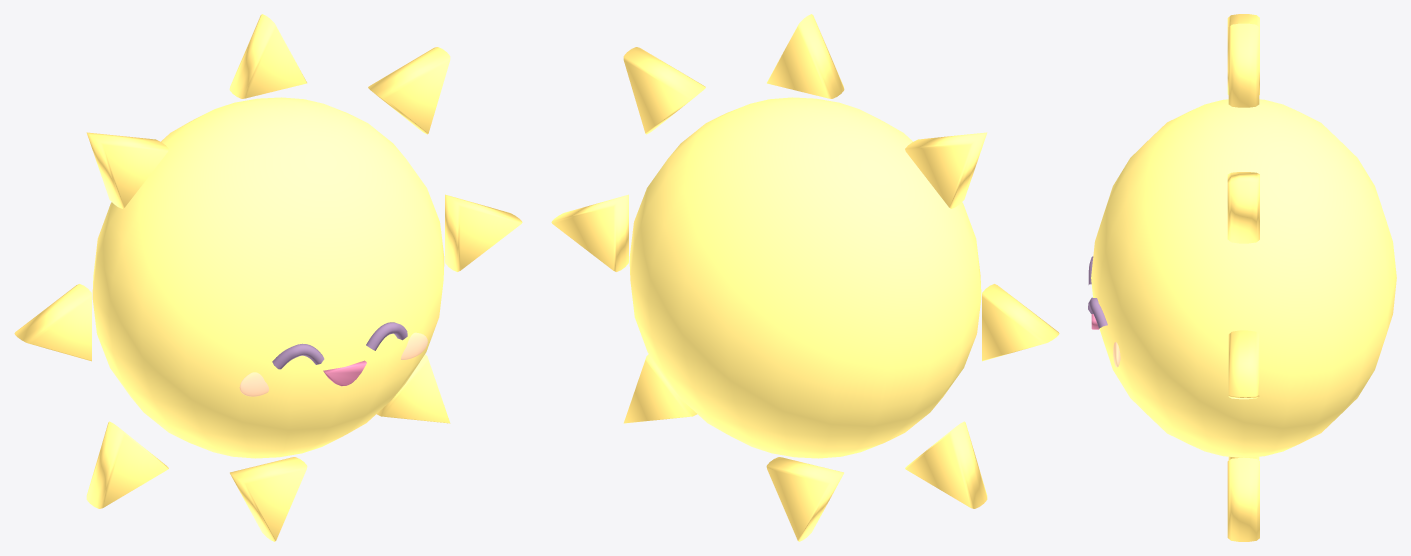
Rendered from life_sunny.glb.
3 views of the same model, side by side, from view 1: azimuth 30°, elevation 25°; view 2: azimuth 150°, elevation 25°; view 3: azimuth 270°, elevation 25° (orthographic). The views are drawn at different scales.
Visible parts, largest first — view 1: wrap_sunny_1, object 2, object 6, object 1, object 5, object 8, object 3, object 7, object 4; view 2: wrap_sunny_1, object 2, object 6, object 1, object 5, object 8, object 3, object 7, object 4; view 3: wrap_sunny_1, object 4, object 1, object 2, object 3, object 8.
Part boxes in pixels (x1,y1,x2,y2): wrap_sunny_1: (92, 97, 444, 458); object 2: (368, 47, 450, 134); object 6: (86, 421, 168, 508); object 1: (229, 14, 306, 98); object 5: (230, 457, 307, 541); object 8: (86, 132, 168, 208); object 3: (445, 194, 522, 271); object 7: (14, 284, 91, 361); object 4: (376, 354, 450, 423); wrap_sunny_1: (629, 97, 981, 458); object 2: (623, 47, 705, 134); object 6: (905, 421, 987, 508); object 1: (767, 14, 844, 98); object 5: (766, 457, 843, 541); object 8: (905, 132, 987, 208); object 3: (551, 194, 628, 271); object 7: (982, 284, 1059, 361); object 4: (623, 354, 697, 423); wrap_sunny_1: (1088, 99, 1396, 457); object 4: (1227, 458, 1259, 541); object 1: (1228, 23, 1259, 107); object 2: (1227, 172, 1259, 243); object 3: (1228, 330, 1259, 399); object 8: (1227, 14, 1259, 94).
Size of the model in its own units: 3.36 by 3.36 by 1.85.
